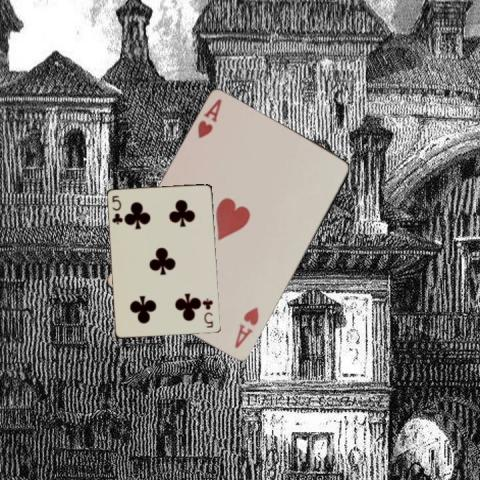5c: (109, 193, 124, 226), (200, 296, 214, 330)
Ah: (231, 304, 261, 351), (195, 96, 223, 140)
